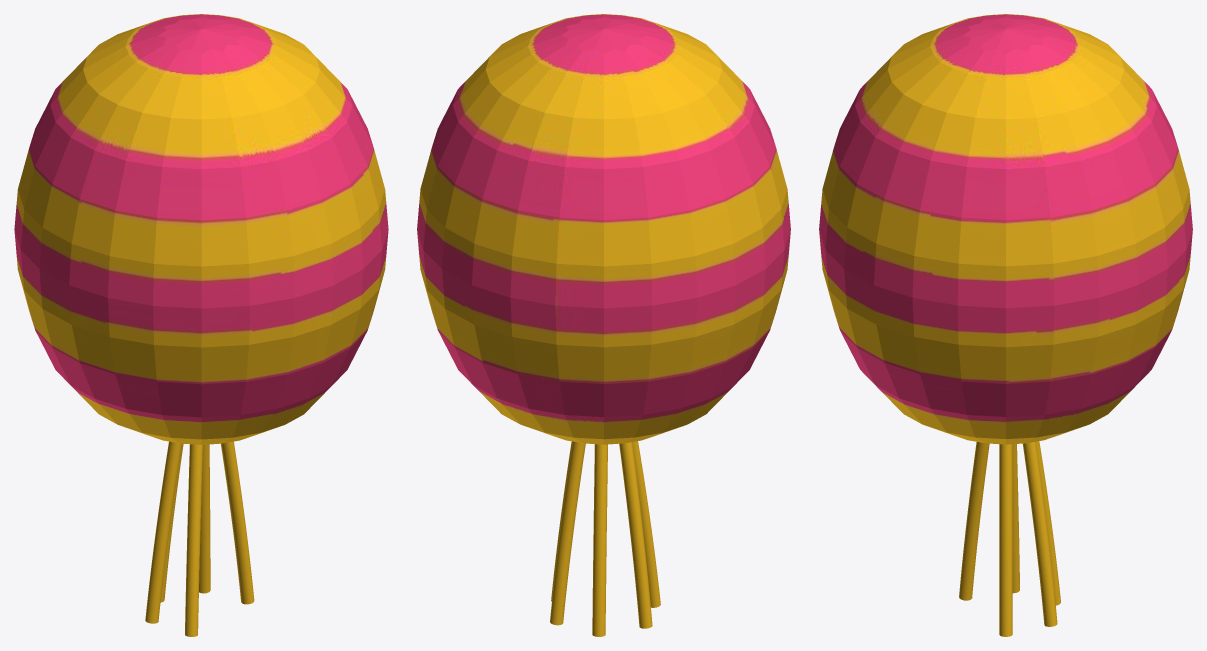
The model's file is lantern.glb.
The picture shows the model from 3 angles, left to right: view 1: azimuth 30°, elevation 25°; view 2: azimuth 150°, elevation 25°; view 3: azimuth 270°, elevation 25°; orthographic projection.
Parts seen in each view (by area): view 1: lantern; view 2: lantern; view 3: lantern.
Part boxes in pixels (left/top/right/bottom): lantern: left=14, top=14, right=388, bottom=636; lantern: left=417, top=14, right=790, bottom=636; lantern: left=819, top=14, right=1192, bottom=636.
Size of the model in its own units: 0.8407 by 1.45 by 0.8407.
Materials: 1 (1 with a texture image).
